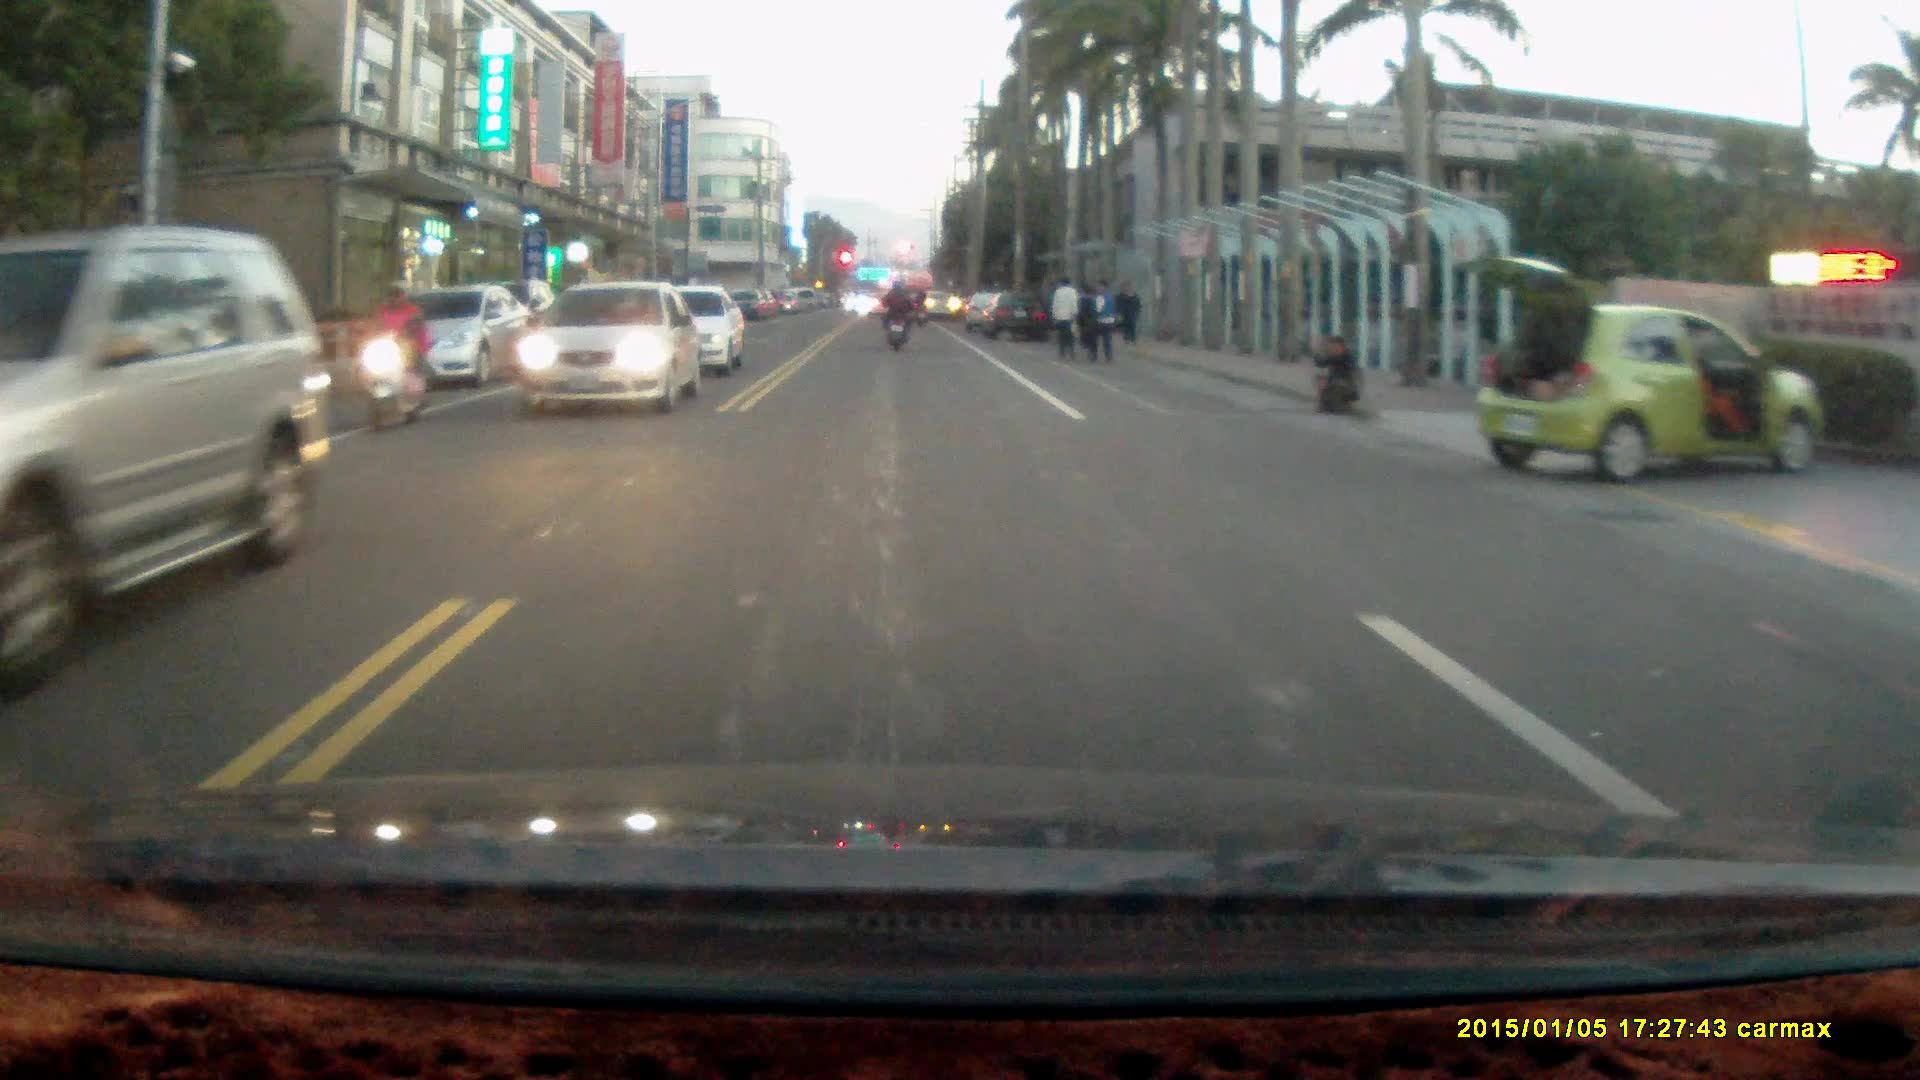pedestrian: (1307, 332, 1364, 417), (1080, 276, 1120, 365), (1049, 274, 1078, 364), (1072, 284, 1101, 369), (1114, 280, 1140, 344)
rider: (365, 281, 436, 434), (878, 276, 913, 353)
vehicle: (1, 229, 334, 702), (1458, 255, 1824, 486), (514, 281, 703, 422), (385, 286, 531, 395), (641, 284, 746, 380), (976, 291, 1049, 341)
